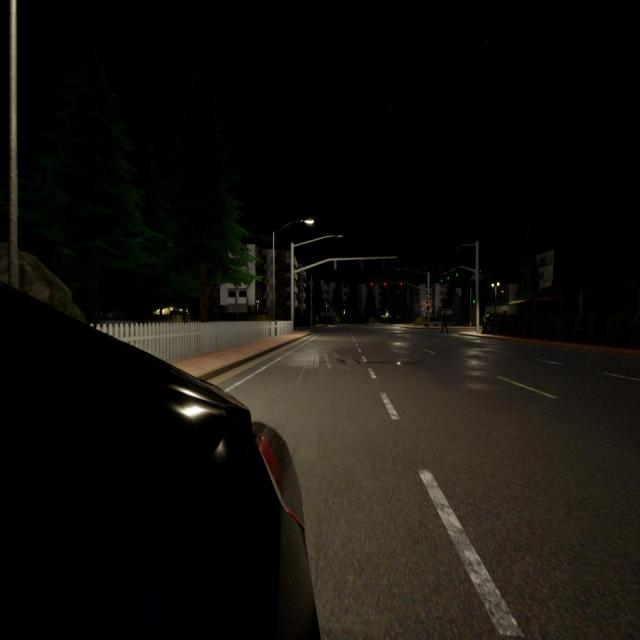Pedestrian: (440, 312, 448, 334)
Vehicle: (0, 286, 319, 640)
traffic_light: (427, 302, 429, 311), (371, 282, 373, 290), (448, 272, 450, 280), (456, 269, 458, 277), (400, 282, 402, 289), (384, 282, 386, 288), (441, 276, 443, 282), (474, 297, 476, 303)
